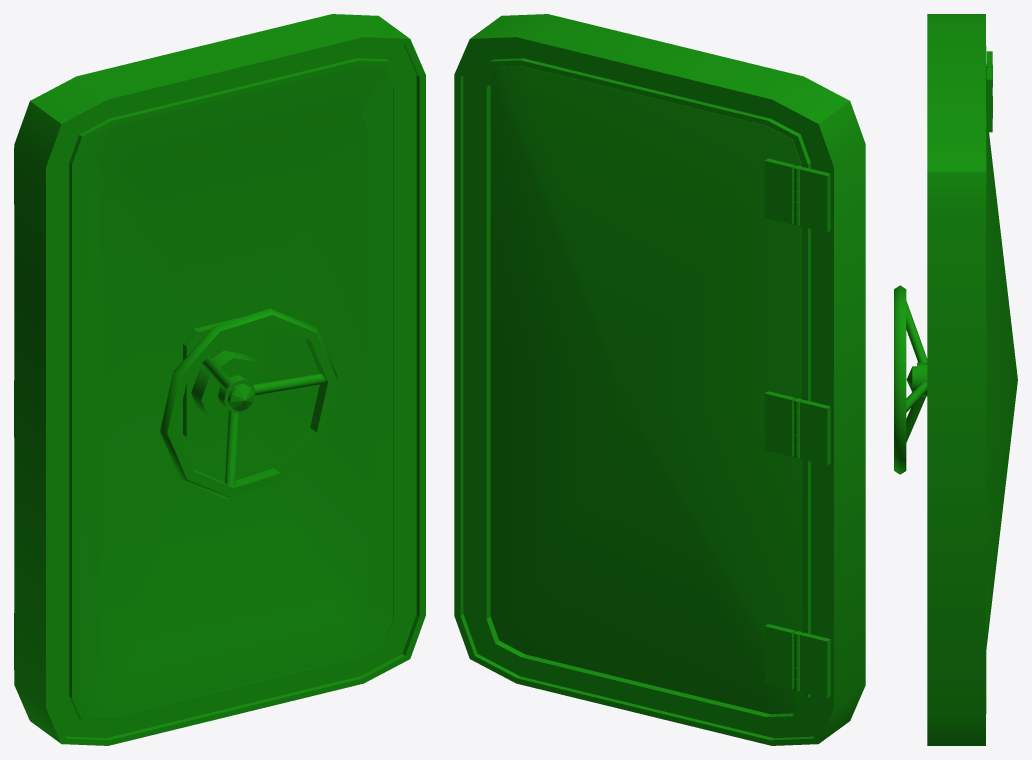
File: Wheel Door.fbx
3 renders of one model, left to right at view 1: azimuth 30°, elevation 25°; view 2: azimuth 150°, elevation 25°; view 3: azimuth 270°, elevation 25°, orthographic. The views are drawn at different scales.
Visible parts, largest first — view 1: Wheel Door, Wheel Door Rim, Wheel Door Handle; view 2: Wheel Door, Wheel Door Rim; view 3: Wheel Door Rim, Wheel Door, Wheel Door Handle.
Boxes of the visible parts, x1,y1,x2,y2 form: Wheel Door: (78, 66, 392, 716); Wheel Door Rim: (14, 14, 425, 745); Wheel Door Handle: (160, 308, 336, 498); Wheel Door: (490, 66, 801, 714); Wheel Door Rim: (454, 14, 865, 745); Wheel Door Rim: (927, 14, 992, 745); Wheel Door: (986, 67, 1017, 648); Wheel Door Handle: (894, 285, 927, 474).
Size of the model in its own units: 144 by 234 by 43.87.
